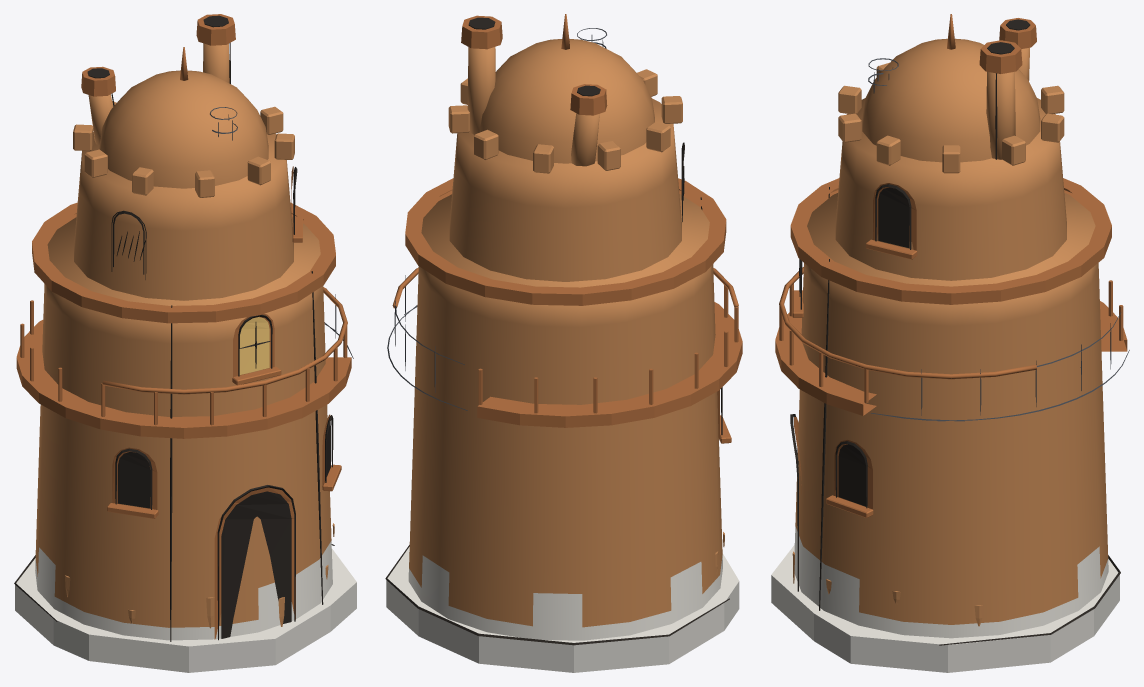
File: House_4.fbx
The picture shows the model from 3 angles, left to right: view 1: azimuth 30°, elevation 25°; view 2: azimuth 150°, elevation 25°; view 3: azimuth 270°, elevation 25°; orthographic projection. The views are drawn at different scales.
Parts seen in each view (by area): view 1: House, Lines; view 2: House, Lines; view 3: House, Lines.
Part boxes in pixels (box(x1,y1,x2,y2)): House: box(15, 14, 356, 672); Lines: box(14, 15, 353, 641); House: box(386, 14, 742, 672); Lines: box(385, 17, 729, 645); House: box(771, 14, 1127, 672); Lines: box(790, 19, 1129, 645).
Size of the model in its own units: 3.92 by 7.15 by 3.97.
